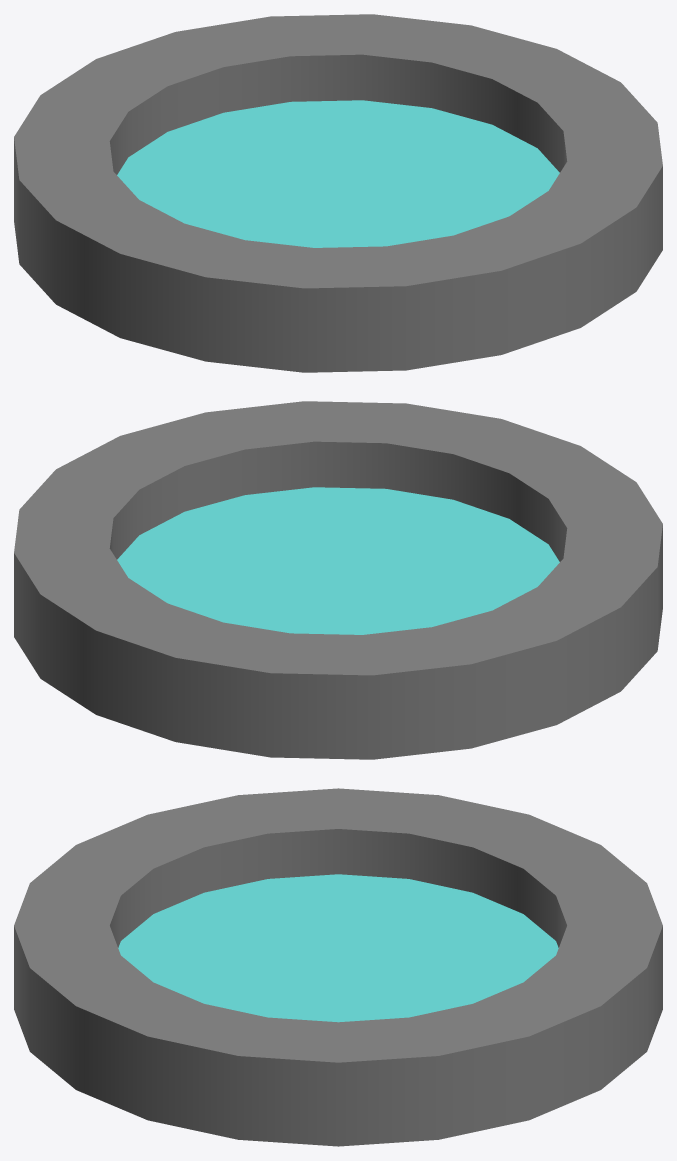
File: Well.fbx
3 views of the same model, one above another, from view 1: azimuth 30°, elevation 25°; view 2: azimuth 150°, elevation 25°; view 3: azimuth 270°, elevation 25° (orthographic).
Parts seen in each view (by area): view 1: CenterWell.001; view 2: CenterWell.001; view 3: CenterWell.001.
Boxes of the visible parts, x1,y1,x2,y2 form: CenterWell.001: [14, 14, 662, 372]; CenterWell.001: [14, 401, 662, 759]; CenterWell.001: [14, 788, 662, 1146].
Size of the model in its own units: 7.34 by 7.34 by 1.05.
